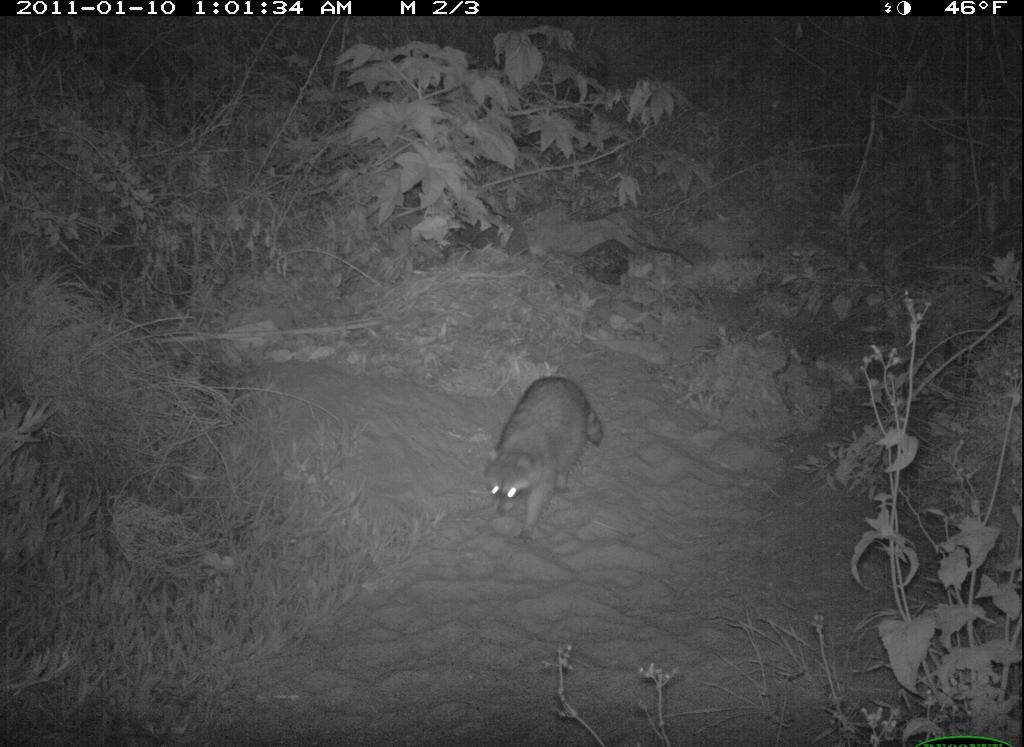raccoon: (482, 368, 610, 546)
